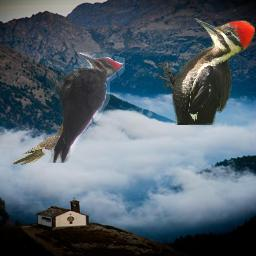Cuckoo: (11, 120, 78, 165)
Woodpecker: (157, 18, 255, 125), (46, 52, 125, 163)
